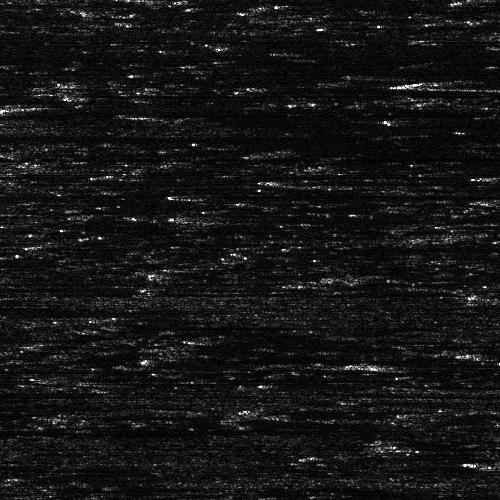rock: (286, 359, 411, 368), (172, 212, 255, 223), (443, 460, 500, 469), (0, 105, 39, 110), (464, 196, 500, 199), (214, 191, 235, 196), (481, 239, 500, 244), (414, 81, 425, 86)
shadow: (349, 359, 500, 368), (0, 306, 170, 313), (0, 129, 106, 140), (214, 212, 293, 223), (0, 307, 91, 316), (0, 419, 37, 434), (0, 285, 109, 290), (0, 401, 68, 408), (19, 105, 101, 110), (225, 191, 306, 196), (420, 81, 500, 86), (67, 376, 140, 379), (0, 295, 40, 300), (485, 196, 500, 199)
